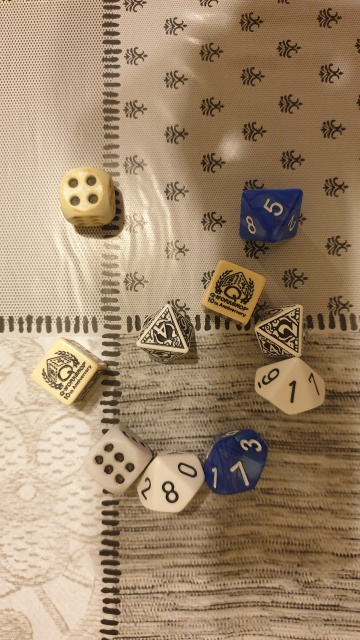d10-1: (250, 354, 337, 421)
d10-5: (231, 179, 312, 251)
d10-7: (199, 427, 287, 506)
d10-8: (133, 450, 206, 518)
d6-4: (58, 164, 120, 230)
d6-6: (83, 416, 153, 498)
d6p-6: (31, 335, 103, 408), (198, 256, 265, 329)
d8p-2: (251, 300, 310, 361)
d8p-4: (132, 300, 194, 365)
